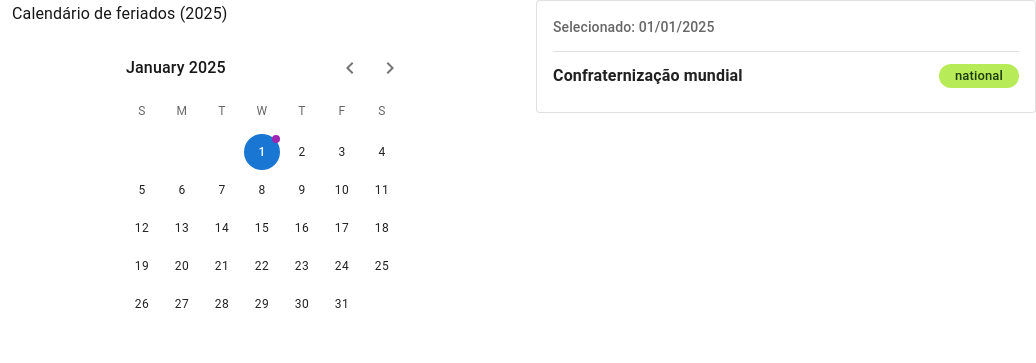
<HolidayCalendar /> › navigates months and shows holidays for the clicked day (04/03/2025)
The width and height of the screenshot is (1036, 363).
Click the button named "next month" at (390, 68), box [370,48,410,88]
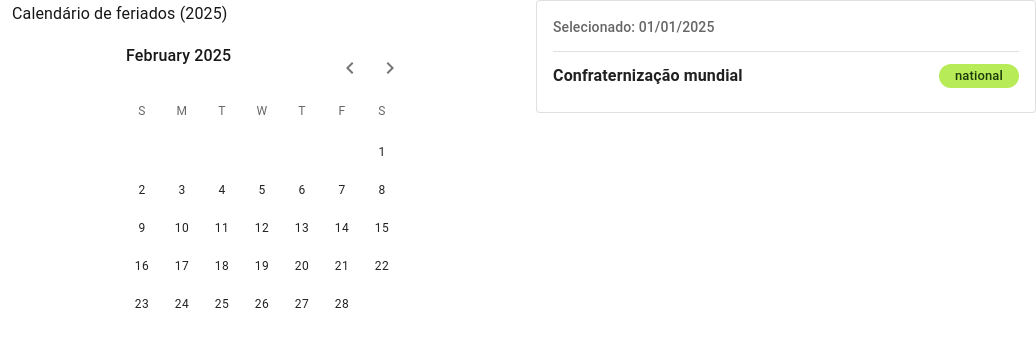
Click the button named "next month" at (390, 68), box [370,48,410,88]
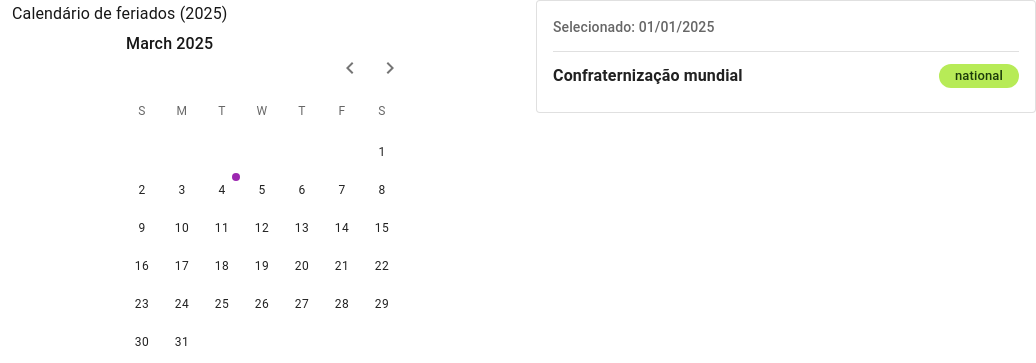
Click the text "4" at (222, 190), box [204,172,240,208]
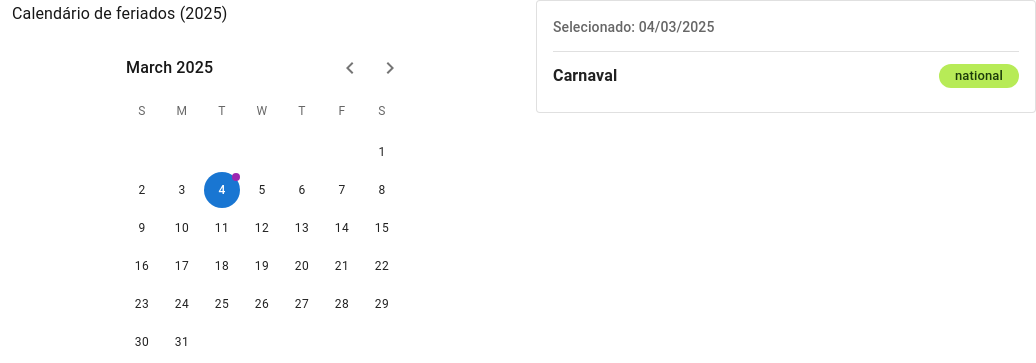
Result: the heading "Selecionado: 04/03/2025" is shown at [553,19,714,35]
Result: the text "Carnaval" is shown at [553,64,617,88]
